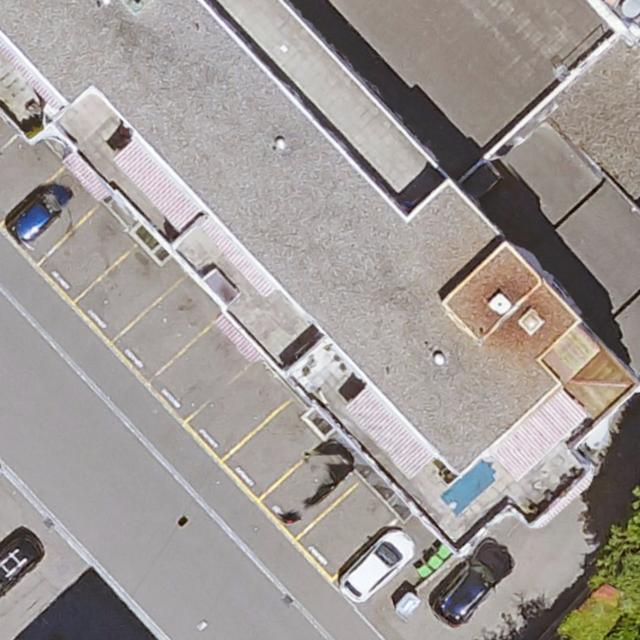tree: (598, 474, 640, 634)
